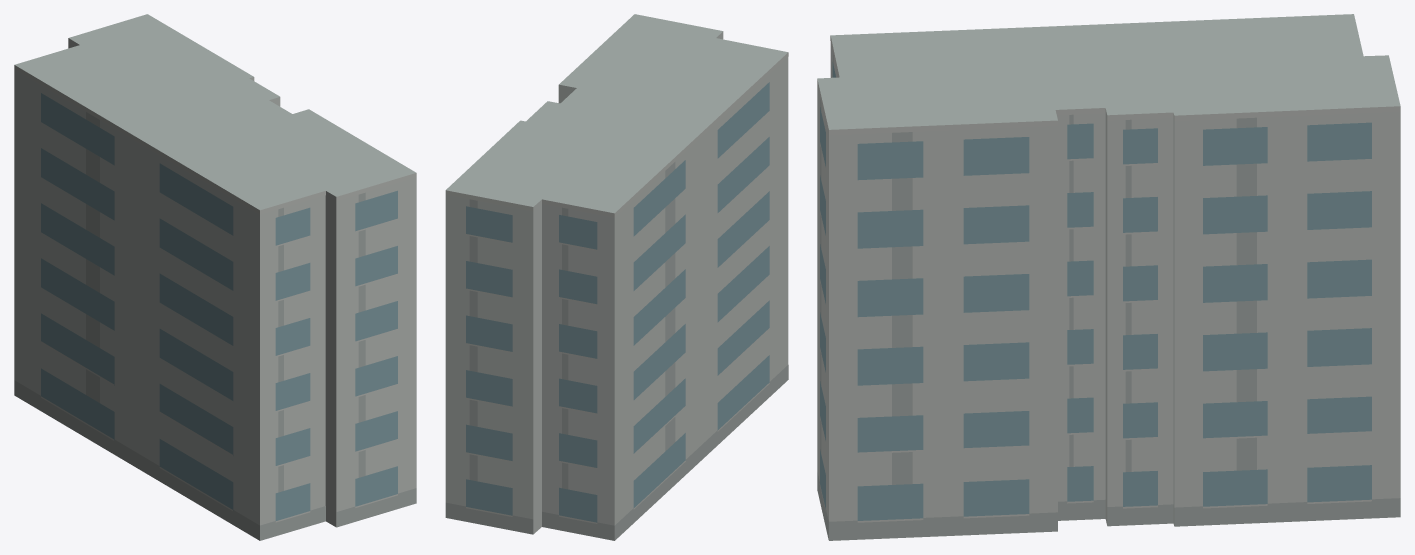
File: survey-upis-32987191.glb
3 renders of one model, left to right at view 1: azimuth 30°, elevation 25°; view 2: azimuth 150°, elevation 25°; view 3: azimuth 270°, elevation 25°, orthographic. The views are drawn at different scales.
Visible parts, largest first — view 1: survey-upis-32987191.tmp; view 2: survey-upis-32987191.tmp; view 3: survey-upis-32987191.tmp.
Part boxes in pixels (box(x1,y1,x2,y2)): survey-upis-32987191.tmp: box(14, 14, 416, 540); survey-upis-32987191.tmp: box(445, 14, 788, 540); survey-upis-32987191.tmp: box(817, 14, 1400, 540).
Bounding box in the file's own units: 10.95 × 18.1 × 23.29.
